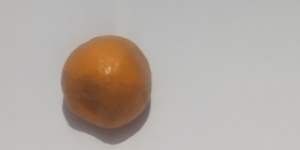BAD: (57, 33, 155, 134)
